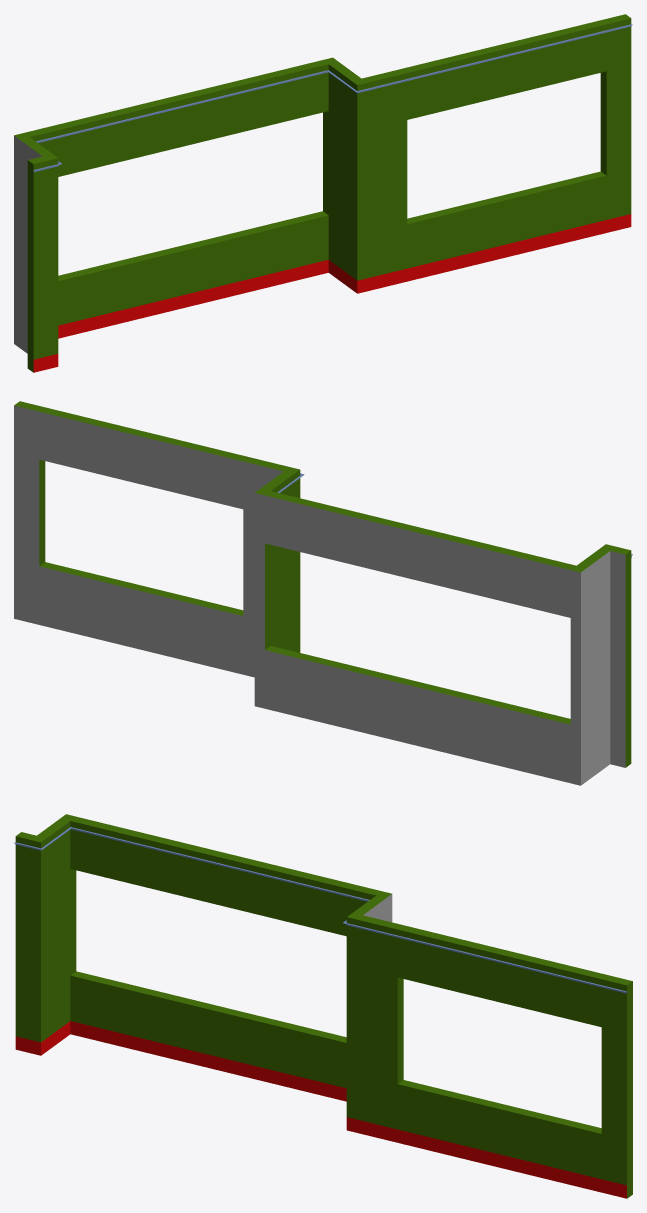
File: Restroom_Wall_Window_01_Snaps014.FBX
The picture shows the model from 3 angles, top to bottom: view 1: azimuth 30°, elevation 25°; view 2: azimuth 150°, elevation 25°; view 3: azimuth 330°, elevation 25°; orthographic projection. The views are drawn at different scales.
Visible parts, largest first — view 1: Restroom_Wall_Window_01_LOD00; view 2: Restroom_Wall_Window_01_LOD00; view 3: Restroom_Wall_Window_01_LOD00.
Part boxes in pixels (x1,y1,x2,y2): Restroom_Wall_Window_01_LOD00: [14, 14, 632, 372]; Restroom_Wall_Window_01_LOD00: [14, 401, 632, 785]; Restroom_Wall_Window_01_LOD00: [14, 814, 632, 1198].
Bounding box in the file's own units: 1200 × 400 × 125.
